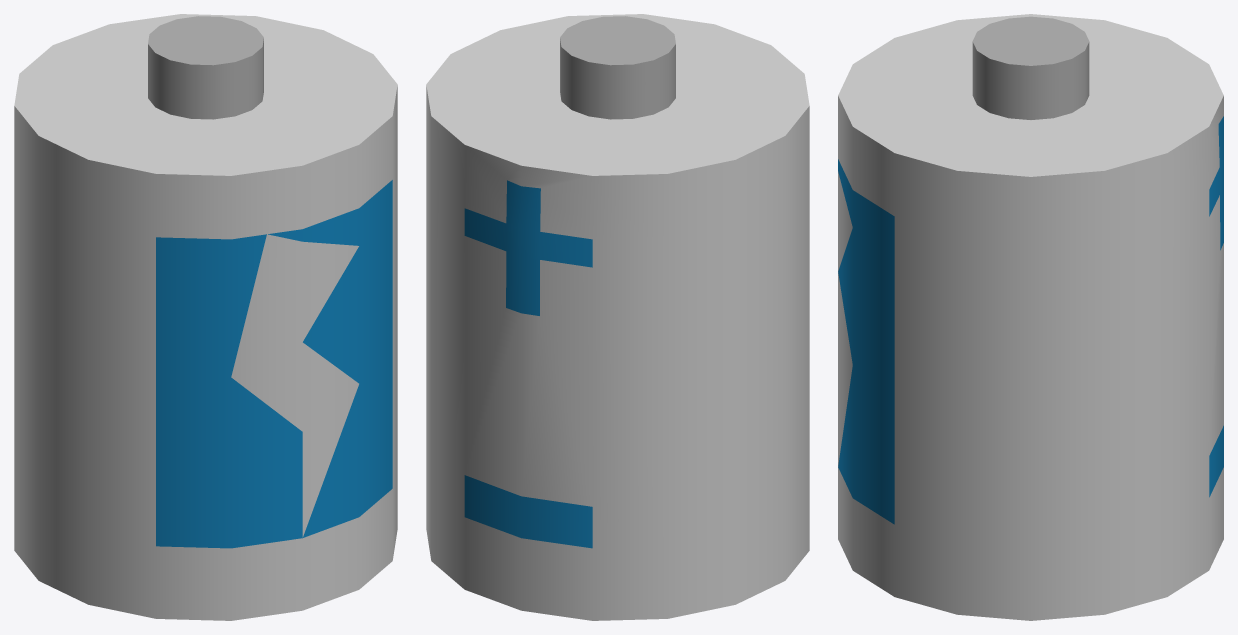
Rendered from Battery.fbx.
3 renders of one model, left to right at view 1: azimuth 30°, elevation 25°; view 2: azimuth 150°, elevation 25°; view 3: azimuth 270°, elevation 25°, orthographic.
Parts seen in each view (by area): view 1: 柱体; view 2: 柱体; view 3: 柱体.
Part boxes in pixels (x1,y1,x2,y2): 柱体: [14, 14, 397, 620]; 柱体: [426, 14, 809, 620]; 柱体: [838, 14, 1223, 620].
Size of the model in its own units: 2 by 2.85 by 2.
